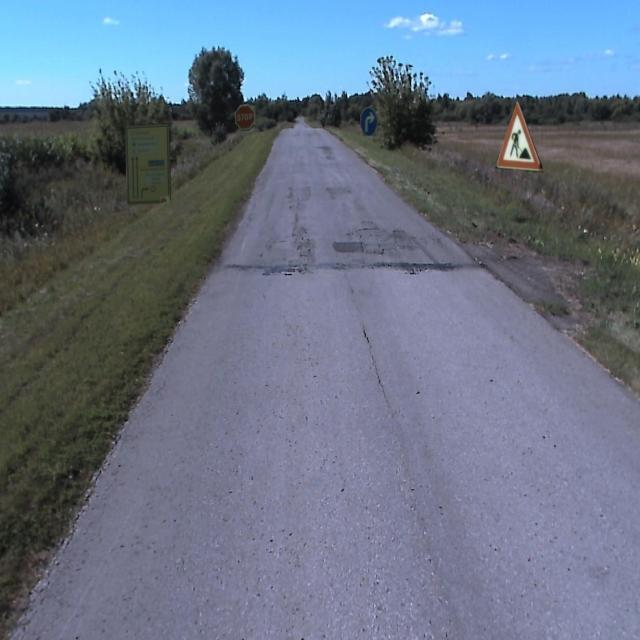road: (23, 128, 639, 639)
